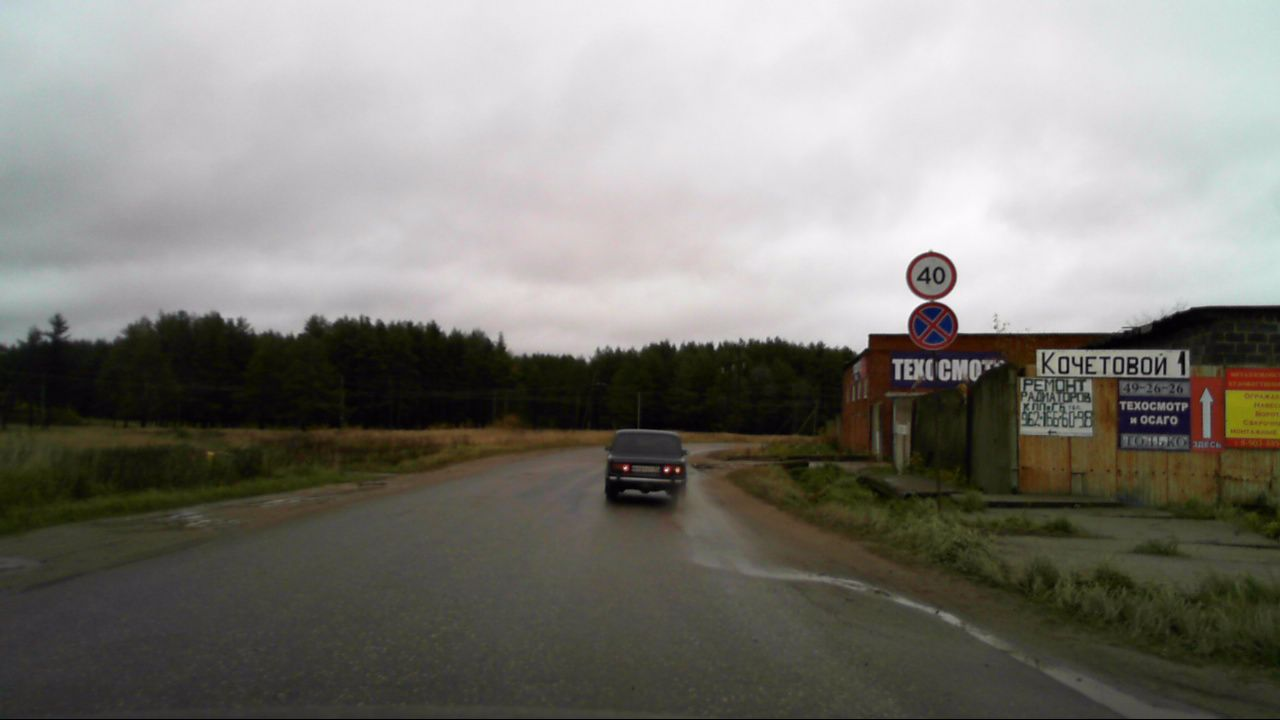No Parking: (908, 301, 959, 350)
speed_warning_40: (907, 252, 956, 299)
